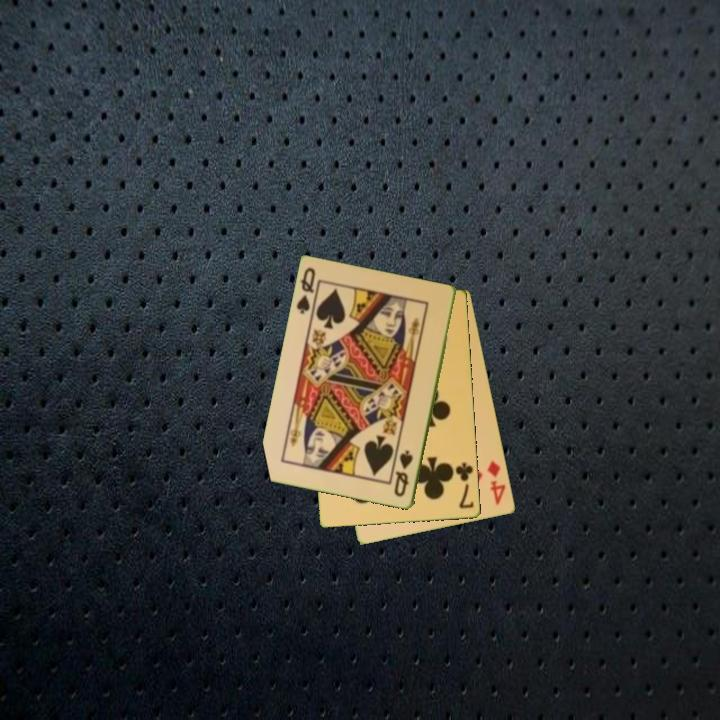4d: (484, 457, 509, 508)
7c: (452, 460, 477, 512)
Qs: (293, 264, 322, 320), (391, 447, 416, 500)
